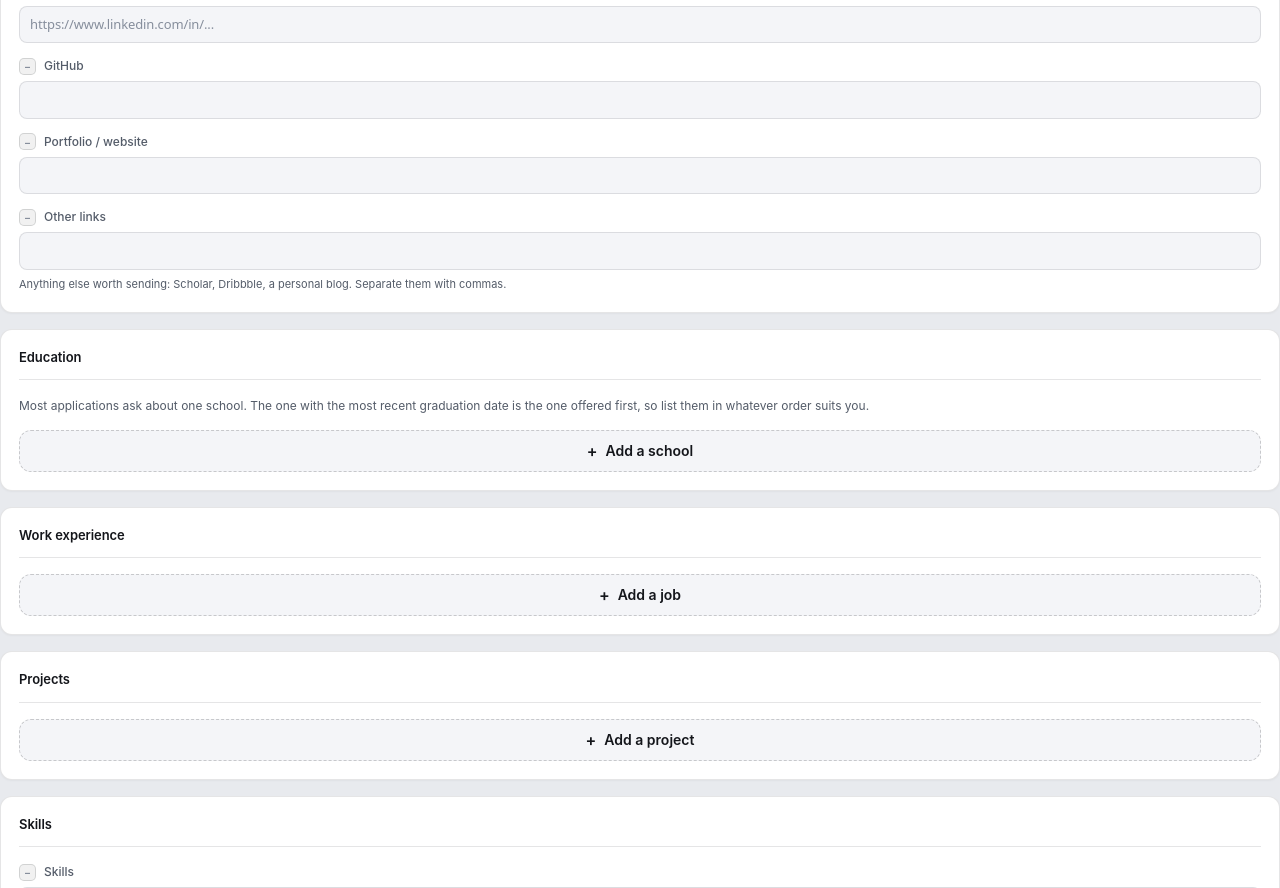
profile editor - repeated entries › parses a date and shows the reading back to the user
(page scrolled)
Click the button "+ Add a school" at (640, 451), box [19,430,1261,472]
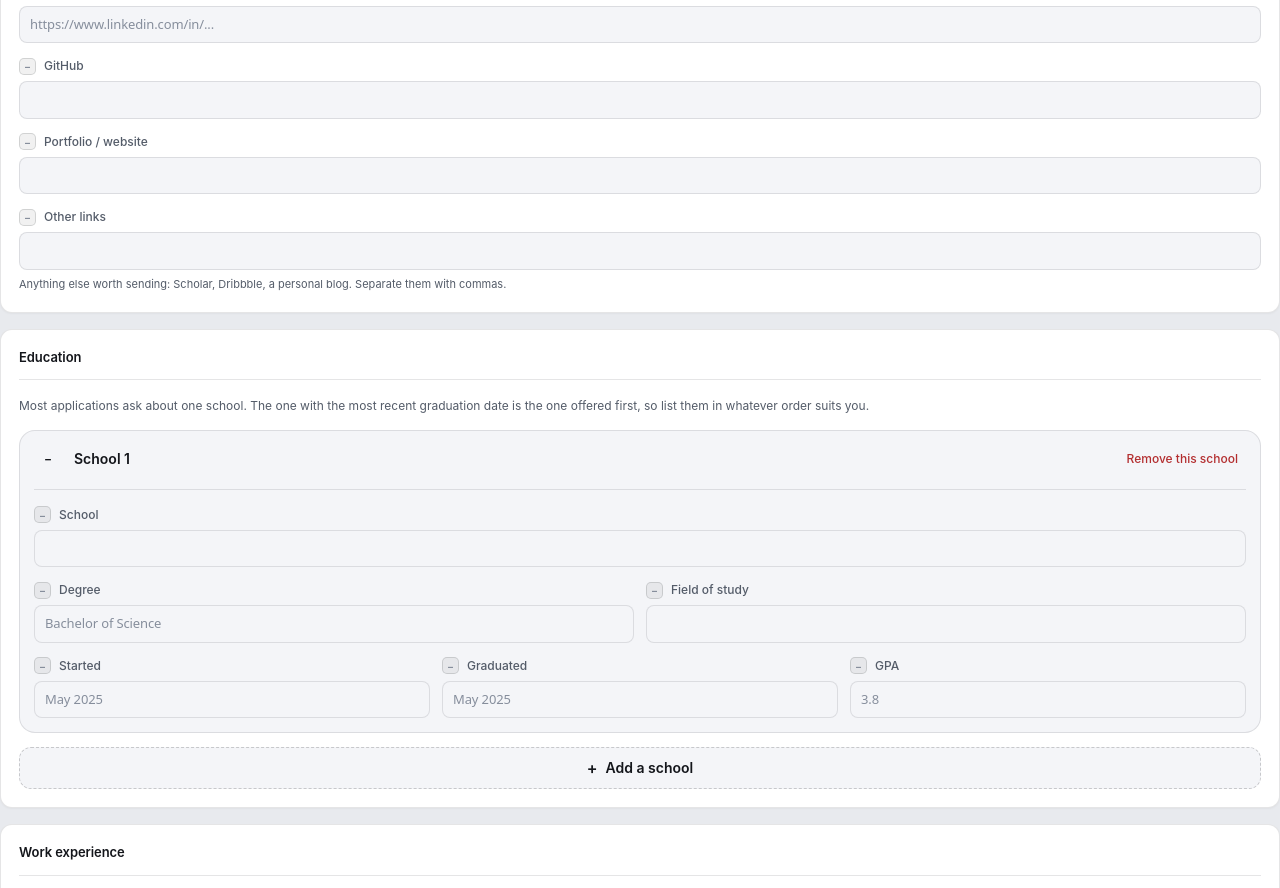
Type "May 2027" into the field labelled "– Graduated" at (640, 700), box [442,681,838,718]
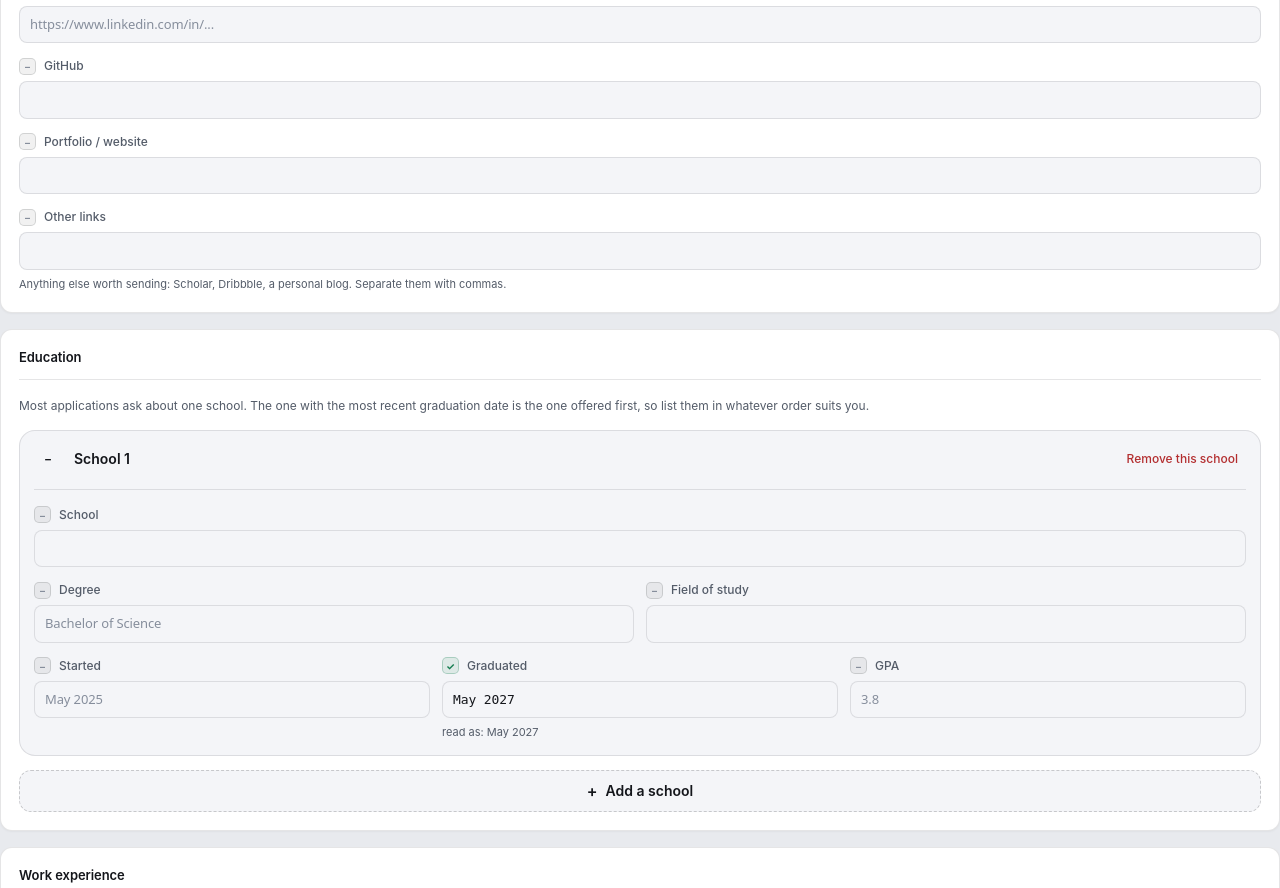
Now the text "read as: May 2027" is shown, box [442,725,538,739]
